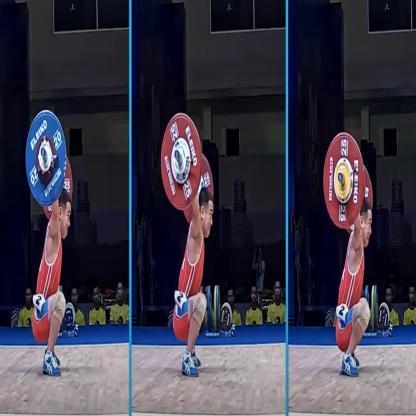barbell: (160, 114, 215, 222), (25, 109, 73, 223), (321, 132, 374, 231)
